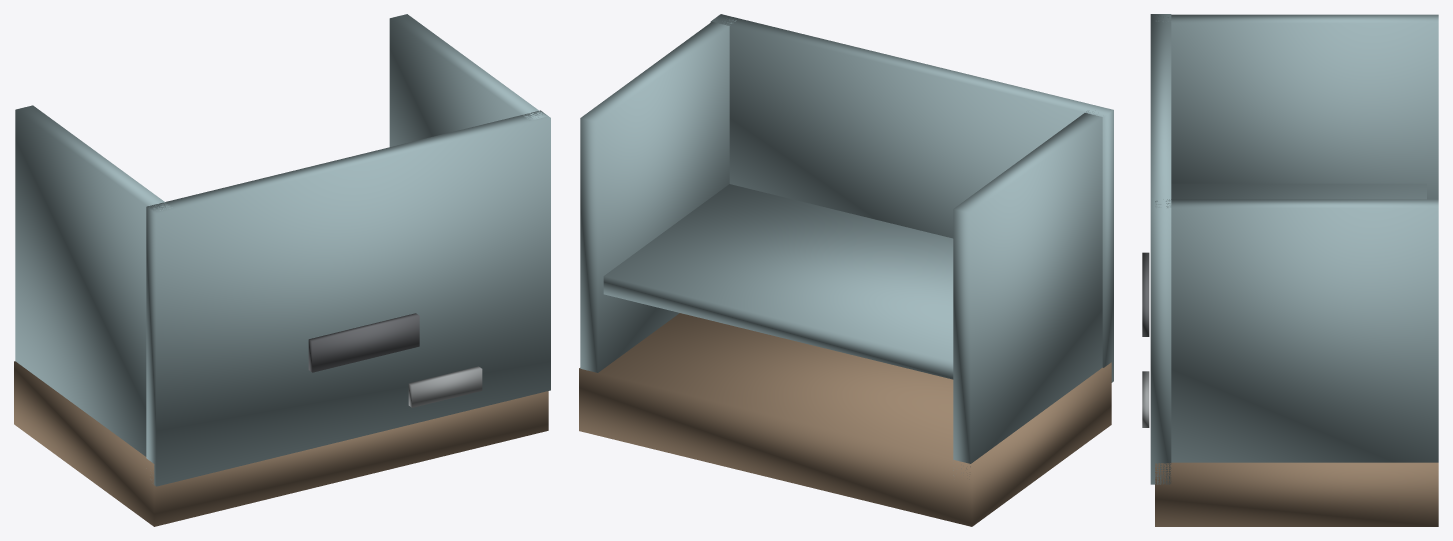
The model's file is pastry_case__weathered.glb.
3 renders of one model, left to right at view 1: azimuth 30°, elevation 25°; view 2: azimuth 150°, elevation 25°; view 3: azimuth 270°, elevation 25°, orthographic.
Visible parts, largest first — view 1: world; view 2: world; view 3: world.
Part boxes in pixels (bbox=[...]): world: bbox=[14, 14, 550, 526]; world: bbox=[579, 14, 1113, 526]; world: bbox=[1142, 14, 1438, 526].
Bounding box in the file's own units: 0.78 × 0.594 × 0.5016.
